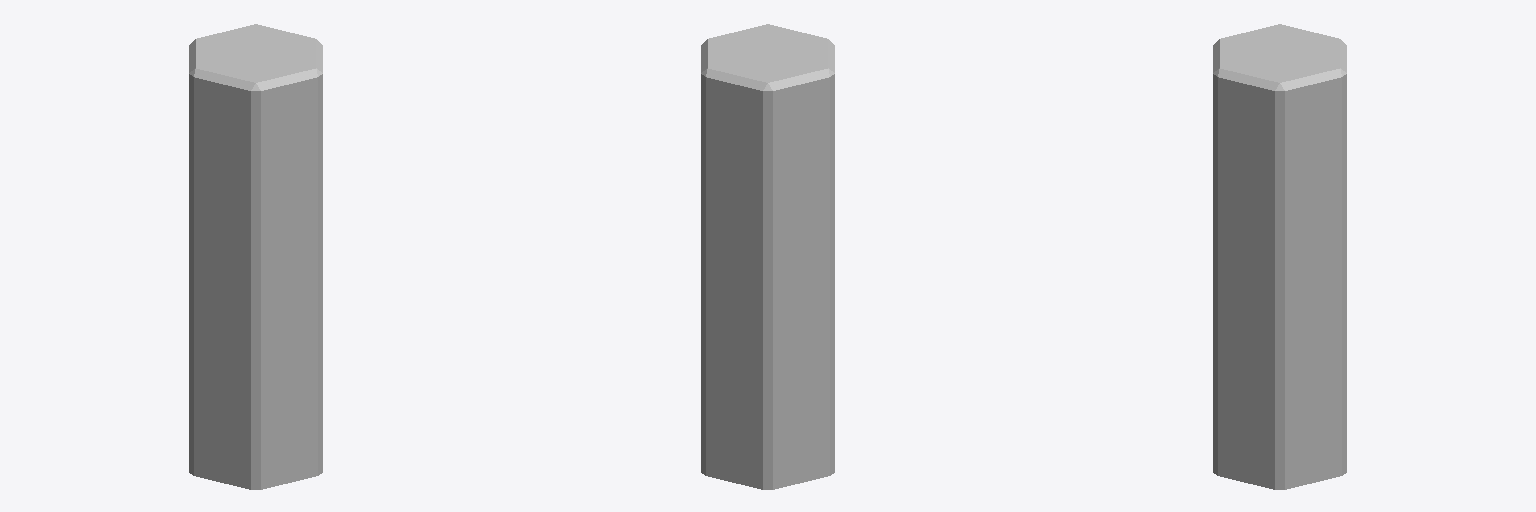
Rendered from Hexagon_Shattered.obj.
3 renders of one model, left to right at view 1: azimuth 30°, elevation 25°; view 2: azimuth 150°, elevation 25°; view 3: azimuth 270°, elevation 25°, orthographic.
Parts seen in each view (by area): view 1: solidShatter1 shard7, solidShatter1 shard6, solidShatter1 shard2, solidShatter1 shard3, solidShatter1 shard5, solidShatter1 shard4; view 2: solidShatter1 shard5, solidShatter1 shard7, solidShatter1 shard2, solidShatter1 shard3, solidShatter1 shard6, shard1 solidShatter1, solidShatter1 shard8; view 3: solidShatter1 shard3, solidShatter1 shard4, shard1 solidShatter1, solidShatter1 shard7, solidShatter1 shard6, solidShatter1 shard5.
Part boxes in pixels (bbox=[...]): solidShatter1 shard7: bbox=[189, 347, 322, 489]; solidShatter1 shard6: bbox=[194, 32, 304, 270]; solidShatter1 shard2: bbox=[189, 226, 317, 355]; solidShatter1 shard3: bbox=[249, 25, 322, 279]; solidShatter1 shard5: bbox=[189, 26, 253, 246]; solidShatter1 shard4: bbox=[262, 278, 322, 440]; solidShatter1 shard5: bbox=[706, 67, 834, 309]; solidShatter1 shard7: bbox=[701, 302, 834, 489]; solidShatter1 shard2: bbox=[742, 224, 834, 353]; solidShatter1 shard3: bbox=[701, 24, 822, 70]; solidShatter1 shard6: bbox=[728, 38, 834, 72]; shard1 solidShatter1: bbox=[701, 67, 716, 310]; solidShatter1 shard8: bbox=[701, 294, 747, 346]; solidShatter1 shard3: bbox=[1213, 41, 1337, 300]; solidShatter1 shard4: bbox=[1213, 275, 1346, 459]; shard1 solidShatter1: bbox=[1238, 65, 1346, 334]; solidShatter1 shard7: bbox=[1213, 338, 1346, 489]; solidShatter1 shard6: bbox=[1213, 24, 1326, 61]; solidShatter1 shard5: bbox=[1280, 24, 1346, 70].
Bounding box in the file's own units: 1.92 × 5.76 × 1.73.